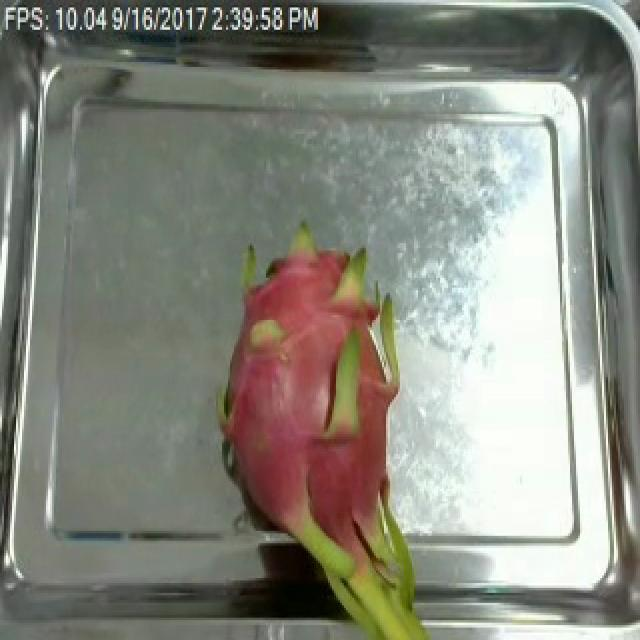fruit: (194, 225, 444, 640)
